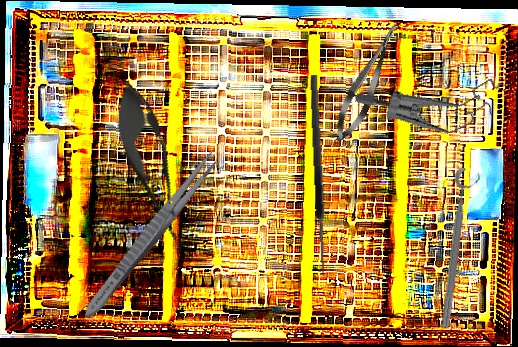Dressing Forceps: (77, 144, 226, 324)
Fixation Ring: (436, 166, 483, 331)
Hook Surgical: (308, 74, 339, 277)
Micro Scissor: (101, 72, 202, 263), (327, 17, 408, 147)
Speculum: (352, 34, 513, 168)
